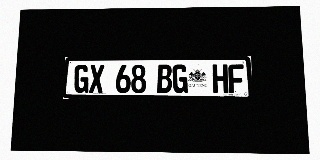6: (115, 65, 131, 93)
8: (131, 65, 146, 93)
B: (157, 64, 172, 93)
F: (228, 64, 244, 93)
G: (172, 64, 188, 93), (74, 65, 89, 93)
H: (212, 64, 228, 93)
X: (89, 65, 104, 93)
